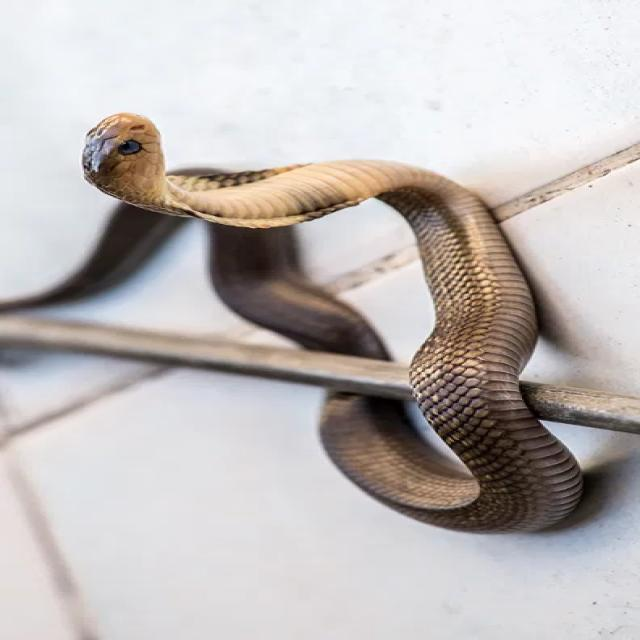Venomous: (52, 97, 356, 242)
